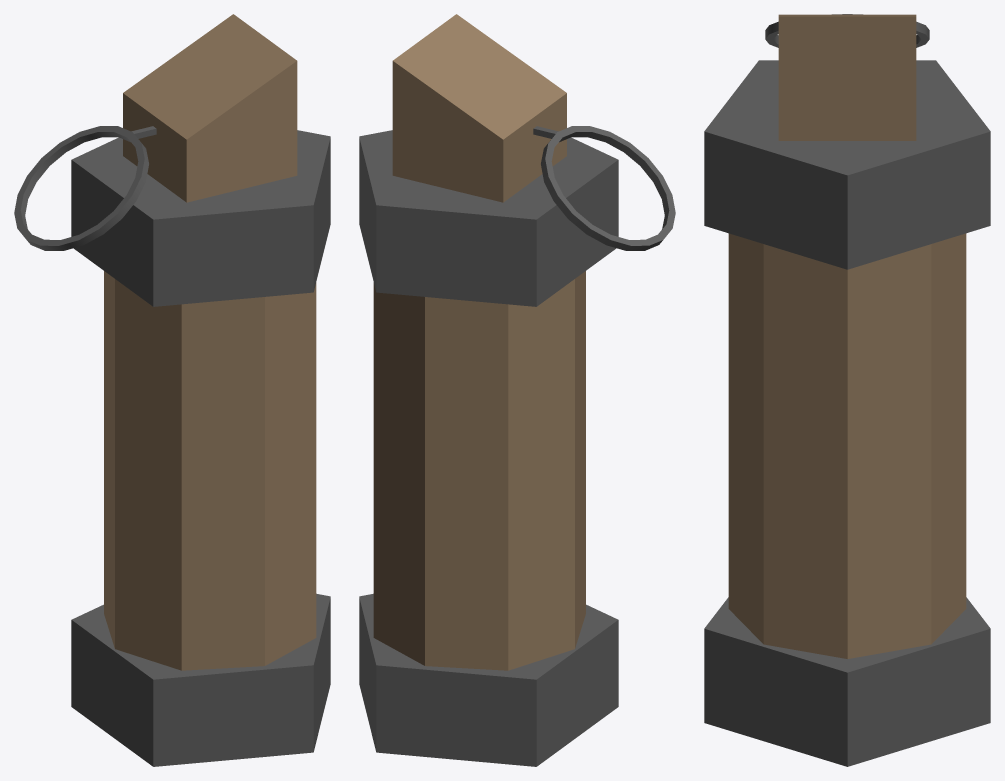
Rendered from env_Flashbang.fbx.
The picture shows the model from 3 angles, left to right: view 1: azimuth 30°, elevation 25°; view 2: azimuth 150°, elevation 25°; view 3: azimuth 270°, elevation 25°; orthographic projection. The views are drawn at different scales.
Visible parts, largest first — view 1: env_Flashbang_Body, env_Flashbang_Ring; view 2: env_Flashbang_Body, env_Flashbang_Ring; view 3: env_Flashbang_Body, env_Flashbang_Ring.
Boxes of the visible parts, x1=… form: env_Flashbang_Body: x1=71, y1=14, x2=330, y2=766; env_Flashbang_Ring: x1=14, y1=126, x2=156, y2=250; env_Flashbang_Body: x1=359, y1=14, x2=618, y2=766; env_Flashbang_Ring: x1=533, y1=126, x2=675, y2=250; env_Flashbang_Body: x1=704, y1=14, x2=990, y2=766; env_Flashbang_Ring: x1=765, y1=14, x2=929, y2=47.
Bounding box in the file's own units: 10.21 × 21.23 × 7.7.
